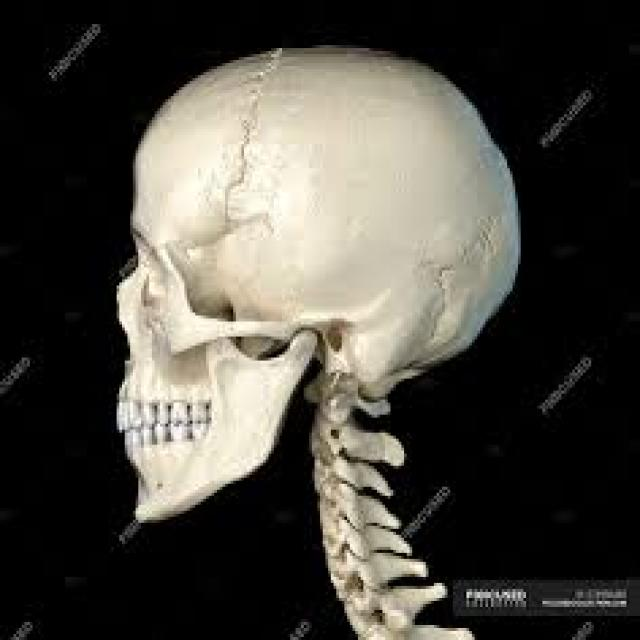skull: (101, 34, 534, 526)
